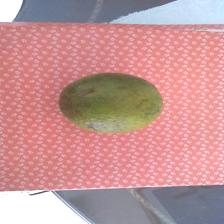Orange Rotten: (57, 66, 167, 142)
